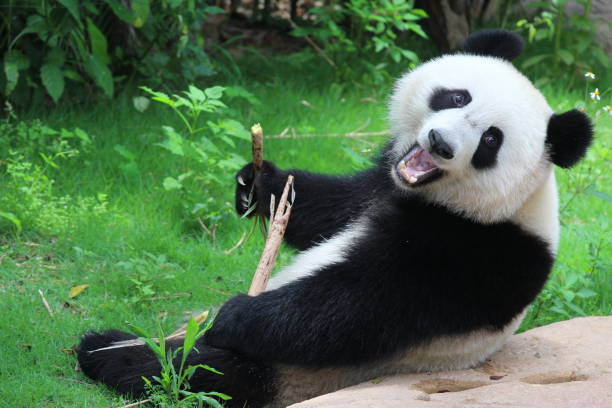panda: (380, 7, 612, 242)
